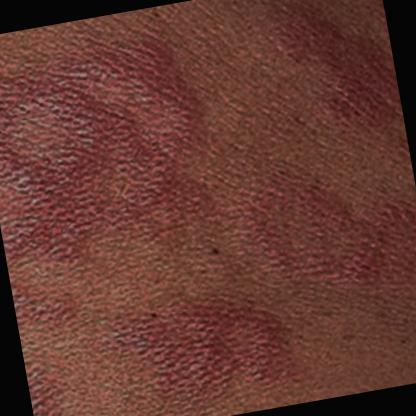Leprosy: (0, 14, 228, 273), (95, 270, 313, 414), (244, 154, 416, 318)
